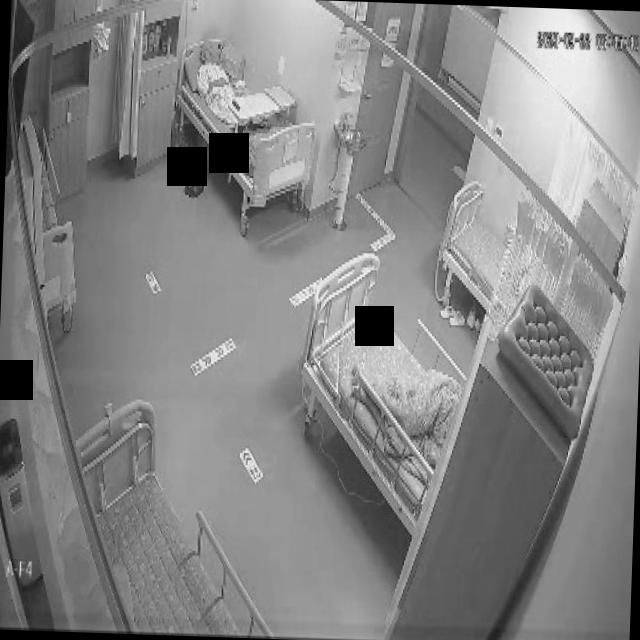bed: (68, 394, 280, 638), (297, 252, 460, 530), (174, 40, 316, 208), (437, 182, 506, 312)
lie: (192, 40, 248, 126)
patient: (192, 40, 247, 125)
